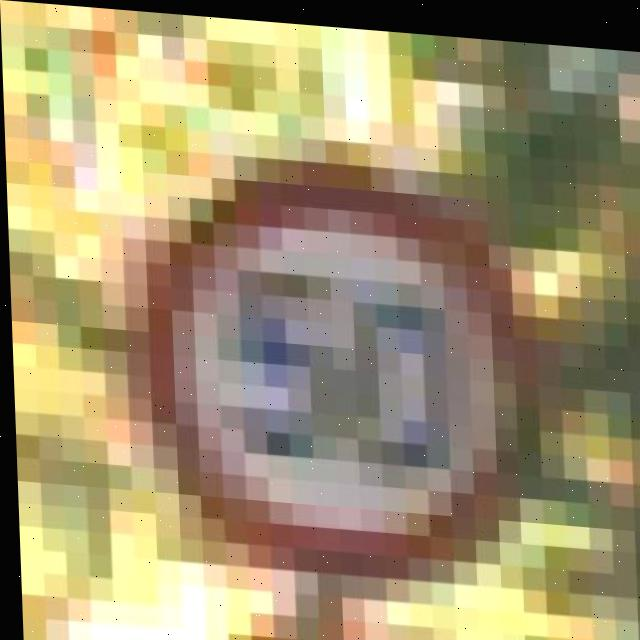Speed limit 50: (144, 152, 529, 583)
